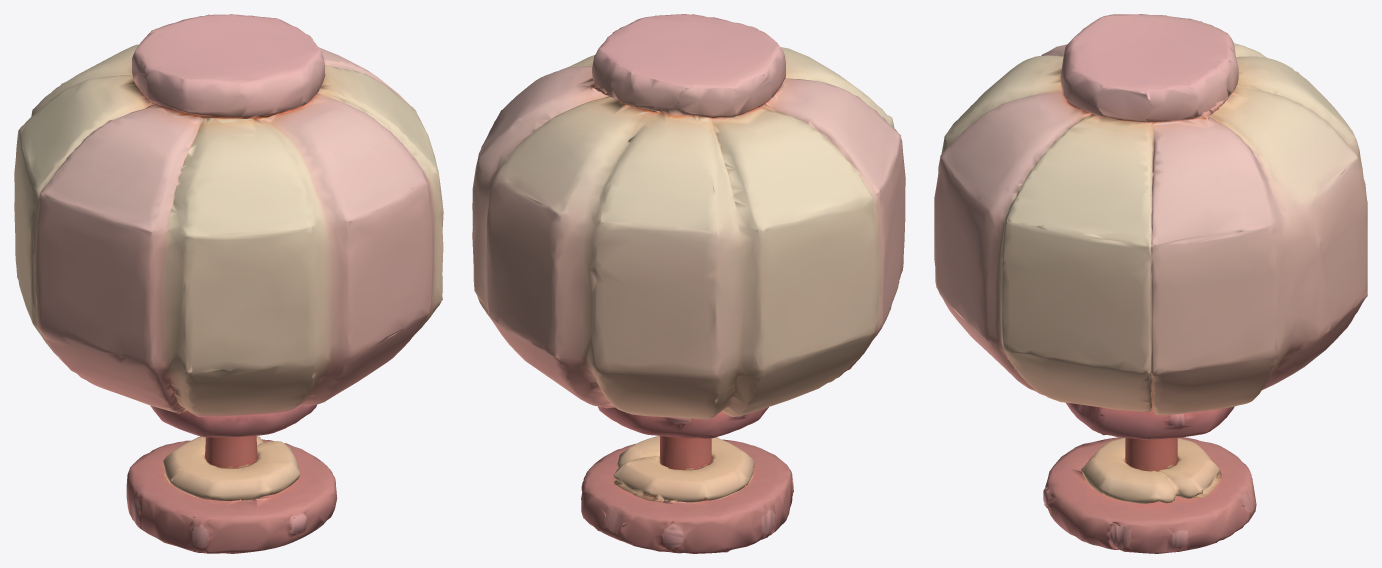
The model's file is lantern_barrier.glb.
3 views of the same model, side by side, from view 1: azimuth 30°, elevation 25°; view 2: azimuth 150°, elevation 25°; view 3: azimuth 270°, elevation 25° (orthographic).
Visible parts, largest first — view 1: tripo_node_06f7b23a-4969-47e1-8b97-7b3cca9d7a1e; view 2: tripo_node_06f7b23a-4969-47e1-8b97-7b3cca9d7a1e; view 3: tripo_node_06f7b23a-4969-47e1-8b97-7b3cca9d7a1e.
Part boxes in pixels (x1,y1,x2,y2): tripo_node_06f7b23a-4969-47e1-8b97-7b3cca9d7a1e: [14, 14, 443, 553]; tripo_node_06f7b23a-4969-47e1-8b97-7b3cca9d7a1e: [472, 14, 905, 553]; tripo_node_06f7b23a-4969-47e1-8b97-7b3cca9d7a1e: [934, 14, 1367, 553].
Size of the model in its own units: 0.8574 by 0.998 by 0.8457.
Materials: 1 (1 with a texture image).
